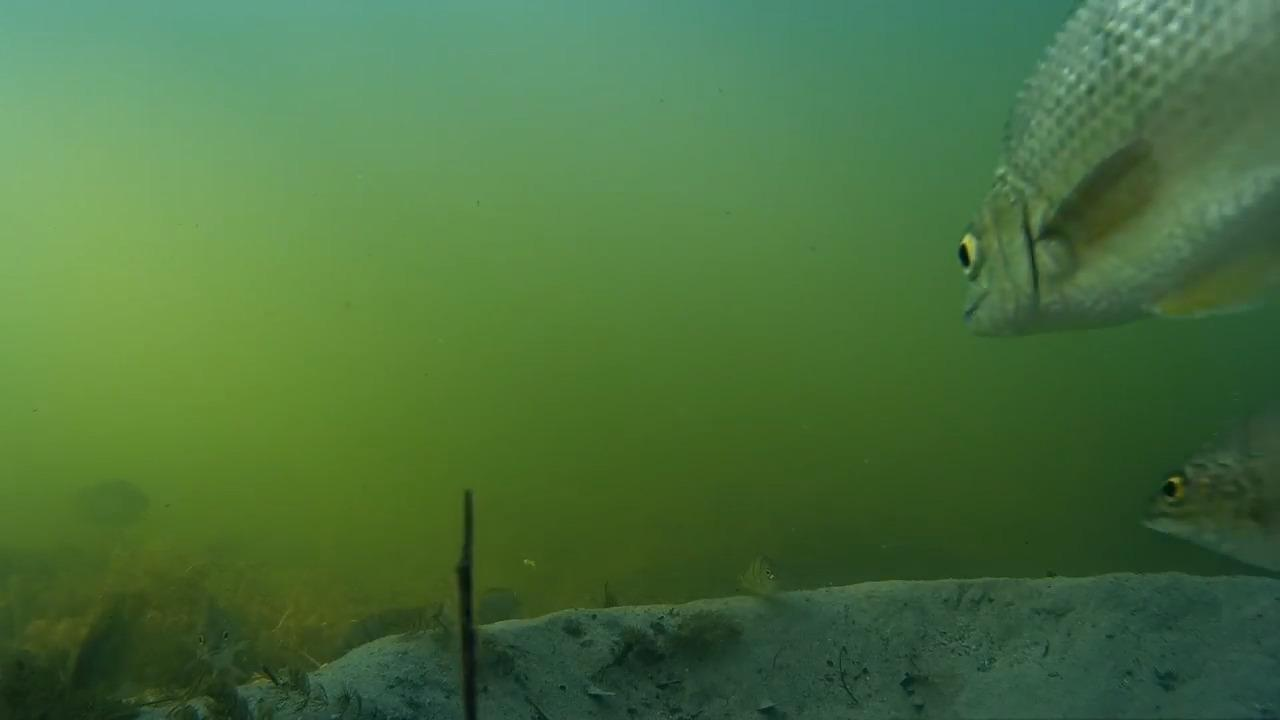Tilapia: (976, 7, 1279, 352), (1128, 431, 1277, 581), (330, 592, 449, 664), (69, 466, 167, 548), (188, 588, 247, 660), (732, 552, 799, 606)
